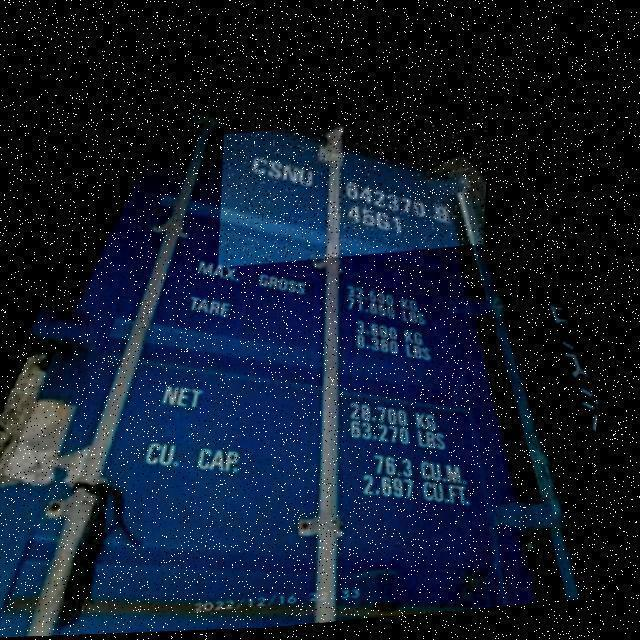ISO: (342, 208, 409, 239)
container_number: (250, 148, 476, 228)
